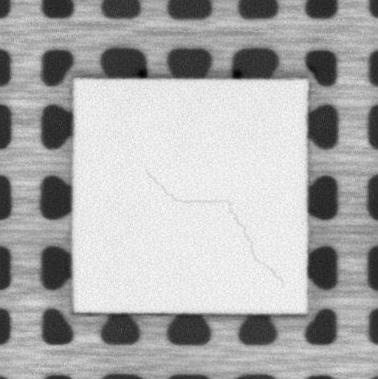DIE_CRACK: (144, 168, 284, 286)
